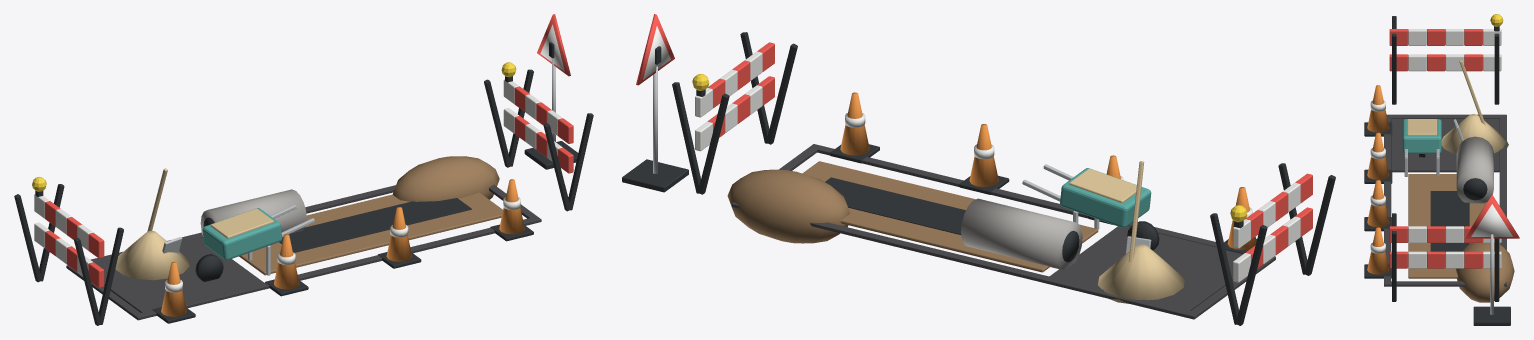
The model's file is RoadWorks.fbx.
3 renders of one model, left to right at view 1: azimuth 30°, elevation 25°; view 2: azimuth 150°, elevation 25°; view 3: azimuth 270°, elevation 25°, orthographic. The views are drawn at different scales.
Visible parts, largest first — view 1: RoadWorks; view 2: RoadWorks; view 3: RoadWorks.
Boxes of the visible parts, x1=… form: RoadWorks: x1=14, y1=14, x2=593, y2=325; RoadWorks: x1=622, y1=14, x2=1335, y2=325; RoadWorks: x1=1364, y1=14, x2=1519, y2=325.
Bounding box in the file's own units: 591 × 174 × 166.
